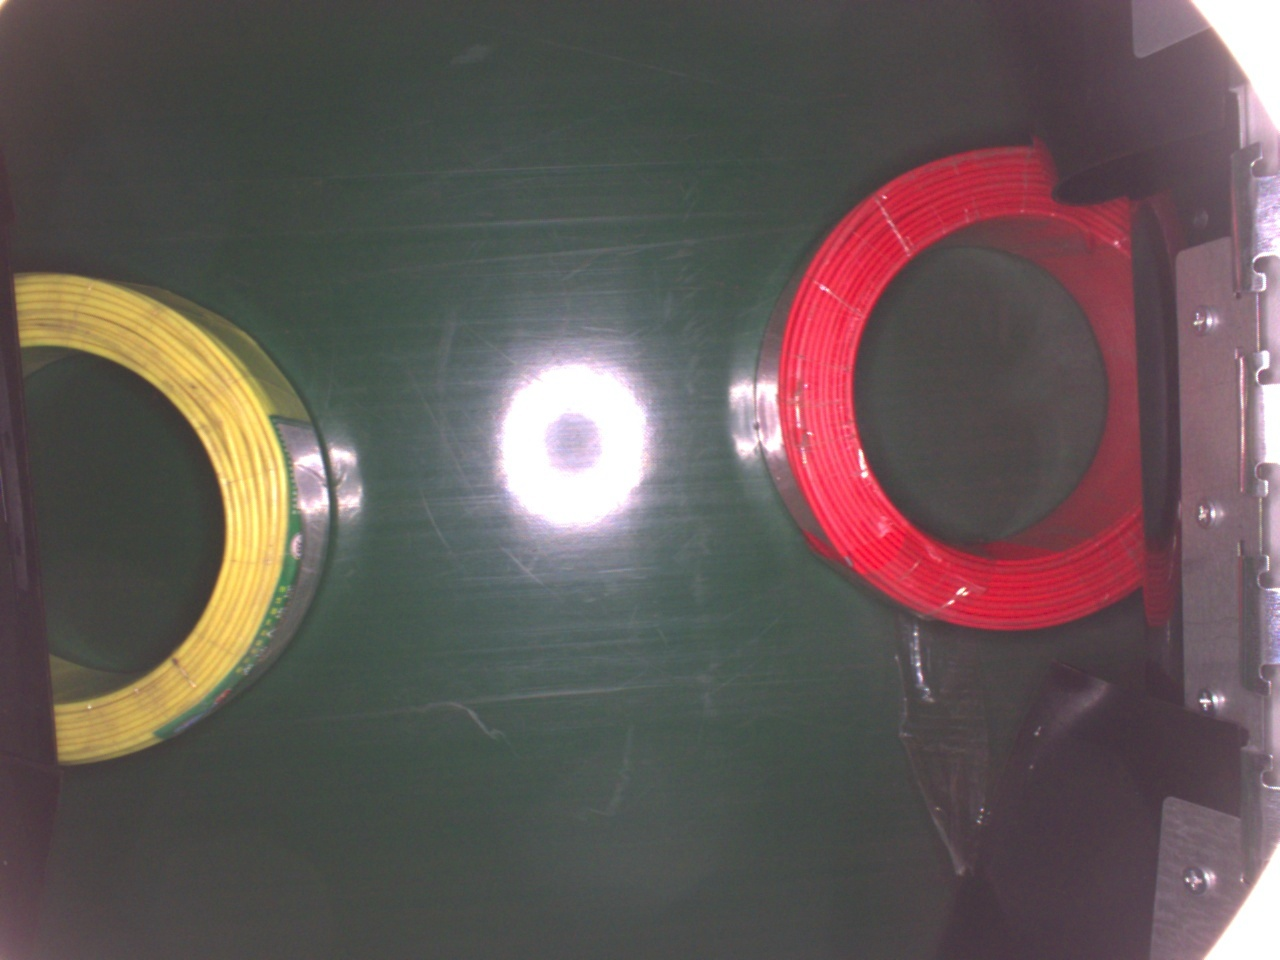red: (747, 136, 1142, 639)
yellow: (6, 267, 333, 767)
